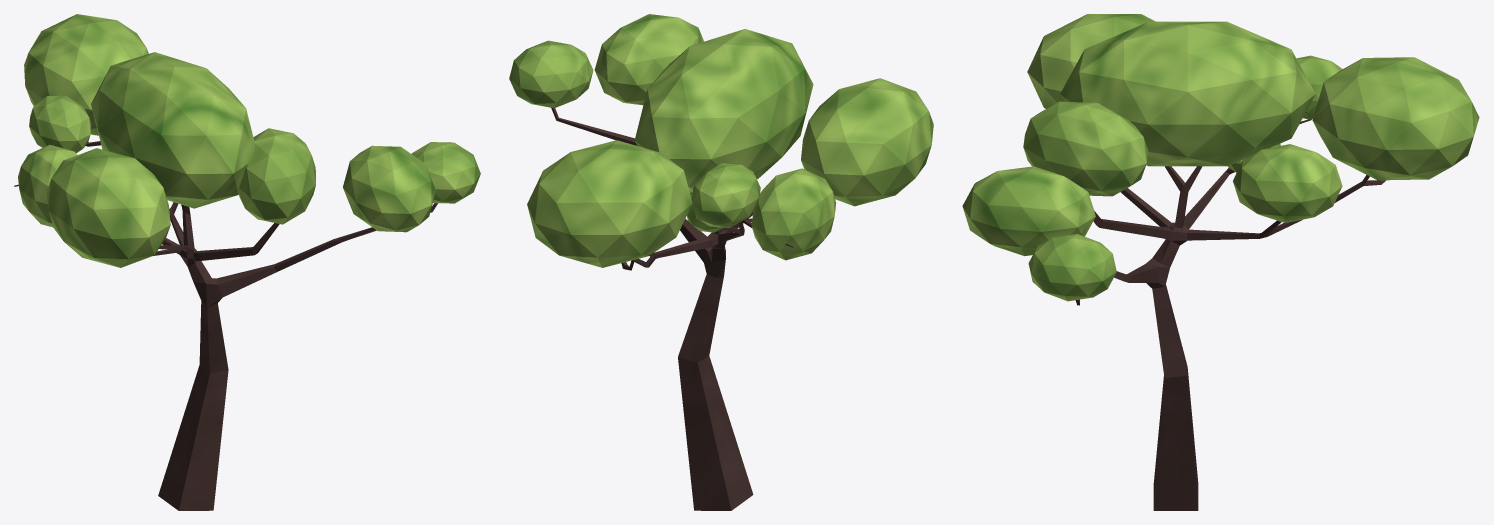
The model's file is tree181_LOD.fbx.
The picture shows the model from 3 angles, left to right: view 1: azimuth 30°, elevation 25°; view 2: azimuth 150°, elevation 25°; view 3: azimuth 270°, elevation 25°; orthographic projection. The views are drawn at different scales.
Parts seen in each view (by area): view 1: tree181_LOD0; view 2: tree181_LOD0; view 3: tree181_LOD0.
Part boxes in pixels (x1=…): tree181_LOD0: x1=14, y1=14, x2=480, y2=510; tree181_LOD0: x1=509, y1=14, x2=933, y2=510; tree181_LOD0: x1=962, y1=14, x2=1479, y2=510.
Size of what is drawn, in the model's own units: 649 by 688 by 680.
